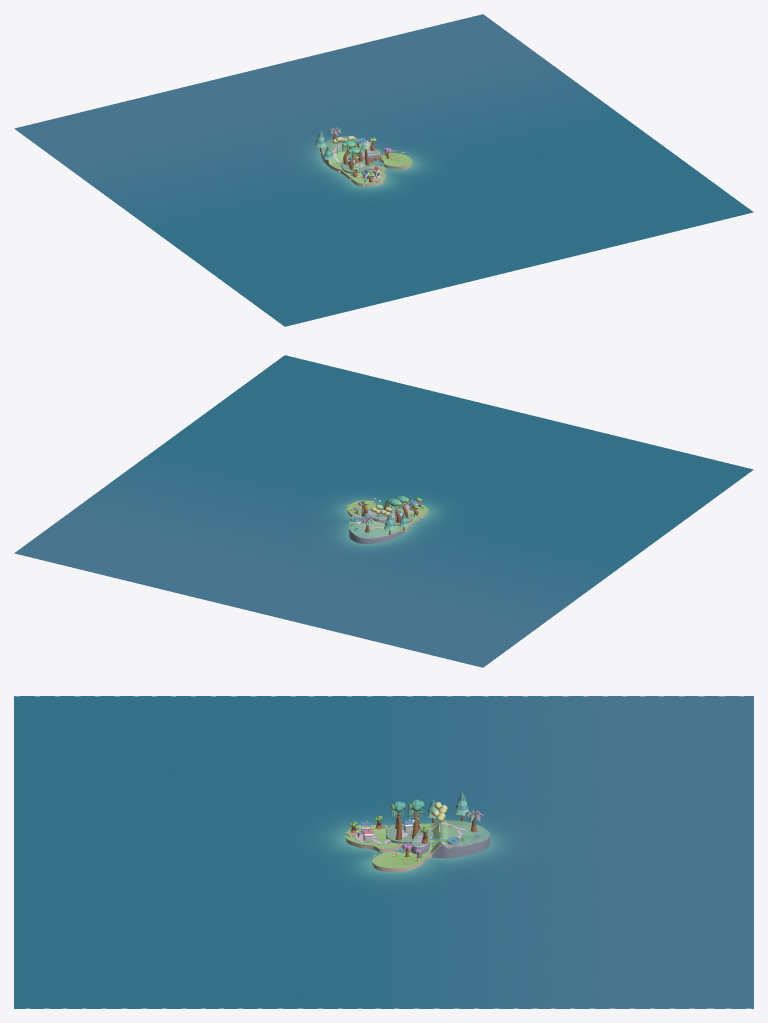
Rendered from small-island.glb.
The picture shows the model from 3 angles, top to bottom: view 1: azimuth 30°, elevation 25°; view 2: azimuth 150°, elevation 25°; view 3: azimuth 270°, elevation 25°; orthographic projection. The views are drawn at different scales.
Visible parts, largest first — view 1: Ocean / tide and reflected sky, Growth / continuous sculpted small island; view 2: Ocean / tide and reflected sky, Growth / continuous sculpted small island; view 3: Ocean / tide and reflected sky, Growth / continuous sculpted small island, Growth / rounded layered small coast.
Boxes of the visible parts, x1,y1,x2,y2 form: Ocean / tide and reflected sky: (14, 14, 753, 326); Growth / continuous sculpted small island: (321, 136, 412, 183); Ocean / tide and reflected sky: (14, 355, 753, 667); Growth / continuous sculpted small island: (347, 500, 427, 537); Ocean / tide and reflected sky: (14, 696, 753, 1008); Growth / continuous sculpted small island: (345, 819, 489, 868); Growth / rounded layered small coast: (345, 820, 489, 872).
Bounding box in the file's own units: 140 × 8.7 × 140.
Materials: 58 (1 with a texture image).
